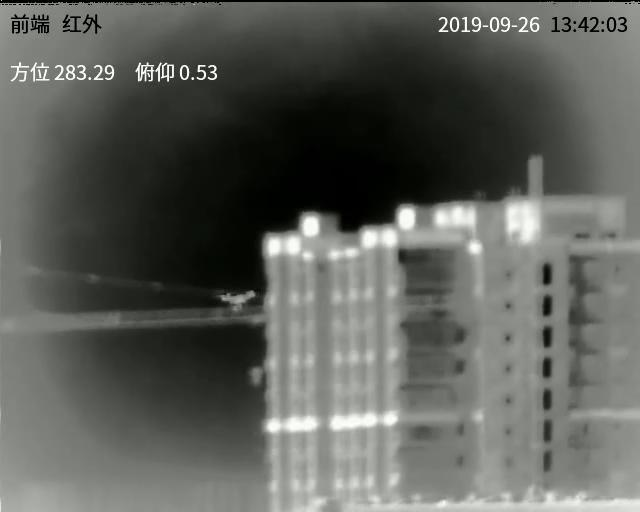uav: (217, 287, 259, 316)
